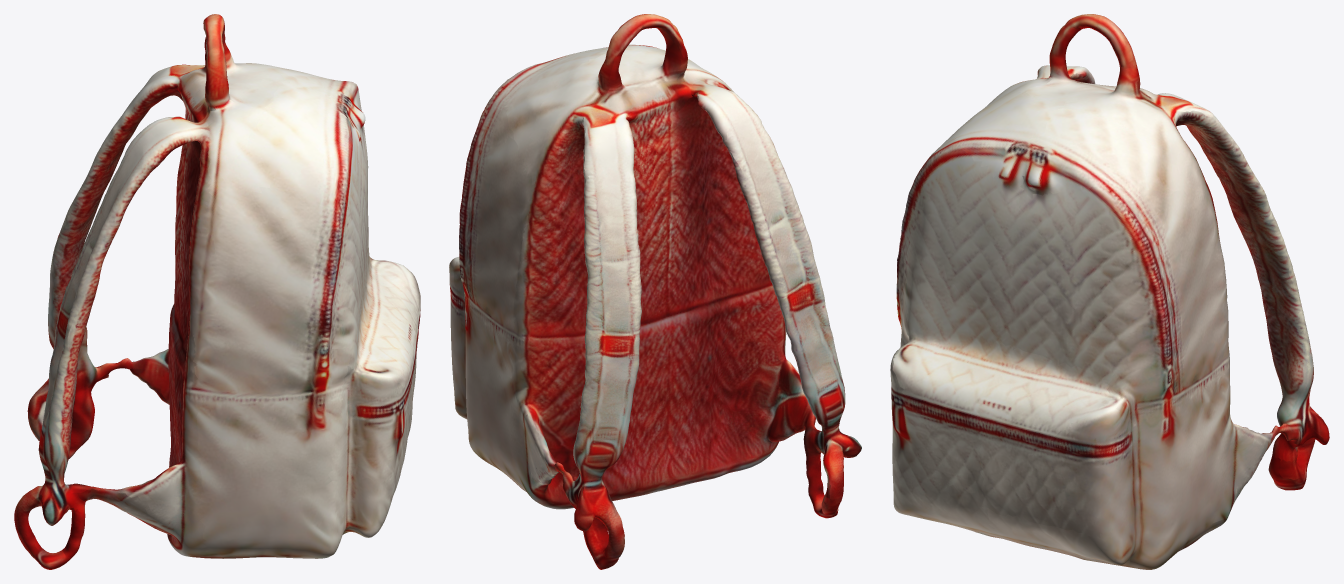
File: backpack.glb
3 renders of one model, left to right at view 1: azimuth 30°, elevation 25°; view 2: azimuth 150°, elevation 25°; view 3: azimuth 270°, elevation 25°, orthographic. The views are drawn at different scales.
Visible parts, largest first — view 1: Object_4; view 2: Object_4; view 3: Object_4.
Boxes of the visible parts, x1=… form: Object_4: x1=14, y1=14, x2=420, y2=569; Object_4: x1=449, y1=14, x2=861, y2=569; Object_4: x1=890, y1=14, x2=1329, y2=569.
Size of the model in its own units: 0.6906 by 0.8085 by 0.6412.
Materials: 1 (1 with a texture image).
